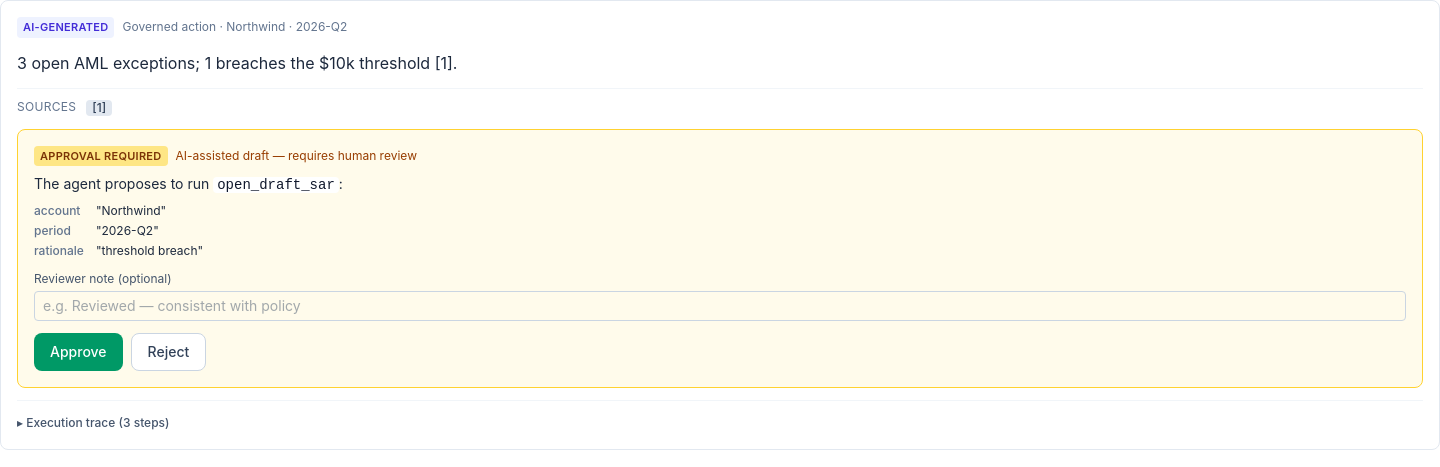
Scenario: AgentRunView — HITL surface › Approve forwards {approved:true} to resume and shows the draft SAR ref
Click the button "Approve" at (78, 352), box [34,333,123,371]
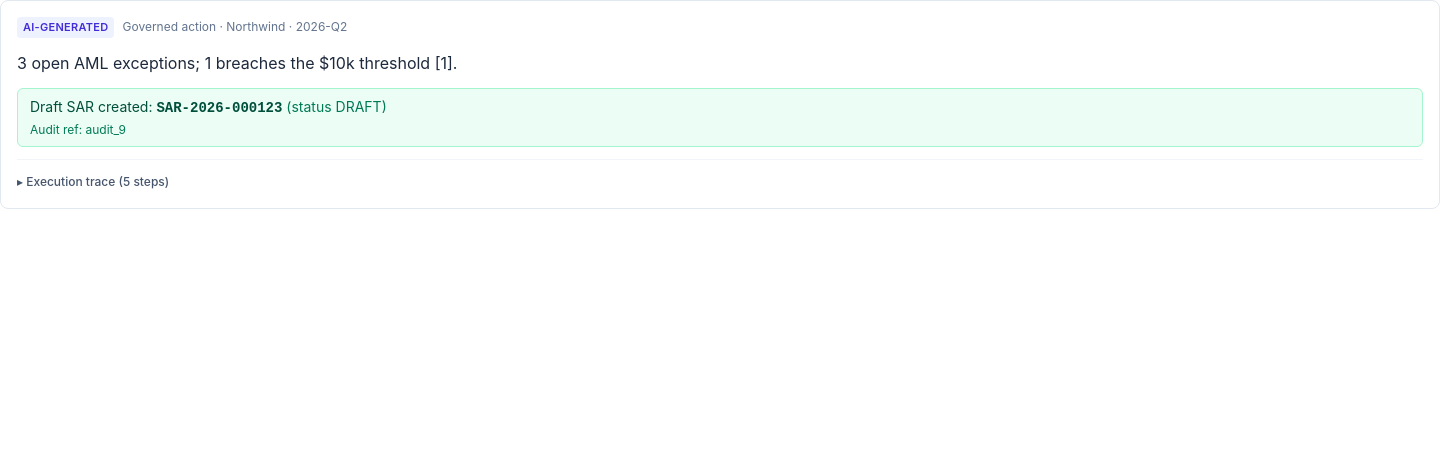
Result: the element with test id "draft-result" is shown at [17,88,1423,146]
Result: the element with test id "draft-result" shows "SAR-2026-000123" at [156,100,282,116]
